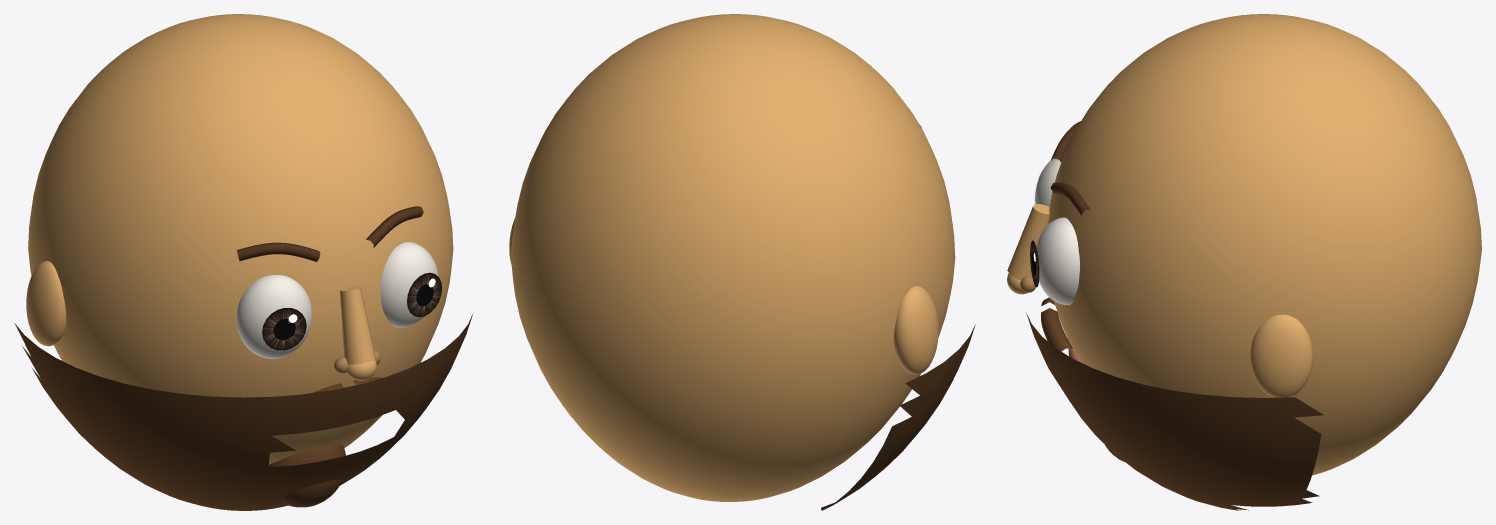
Rendered from 05-pleine.glb.
3 views of the same model, side by side, from view 1: azimuth 30°, elevation 25°; view 2: azimuth 150°, elevation 25°; view 3: azimuth 270°, elevation 25° (orthographic). The views are drawn at different scales.
Size of the model in its own units: 0.3138 by 0.3402 by 0.3166.
10 materials, 1 textured.
